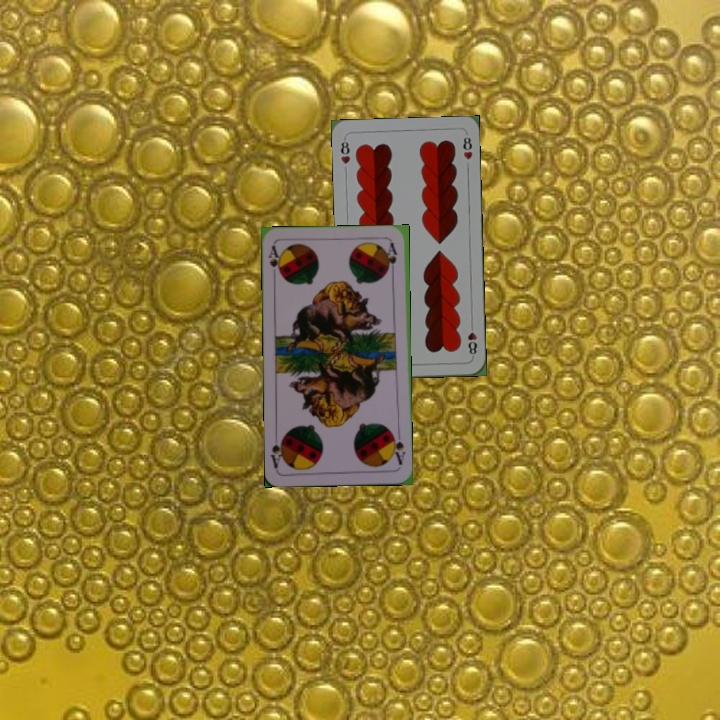H8: (464, 319, 479, 360), (337, 134, 353, 166)
SA: (264, 241, 284, 282), (388, 428, 408, 467)
